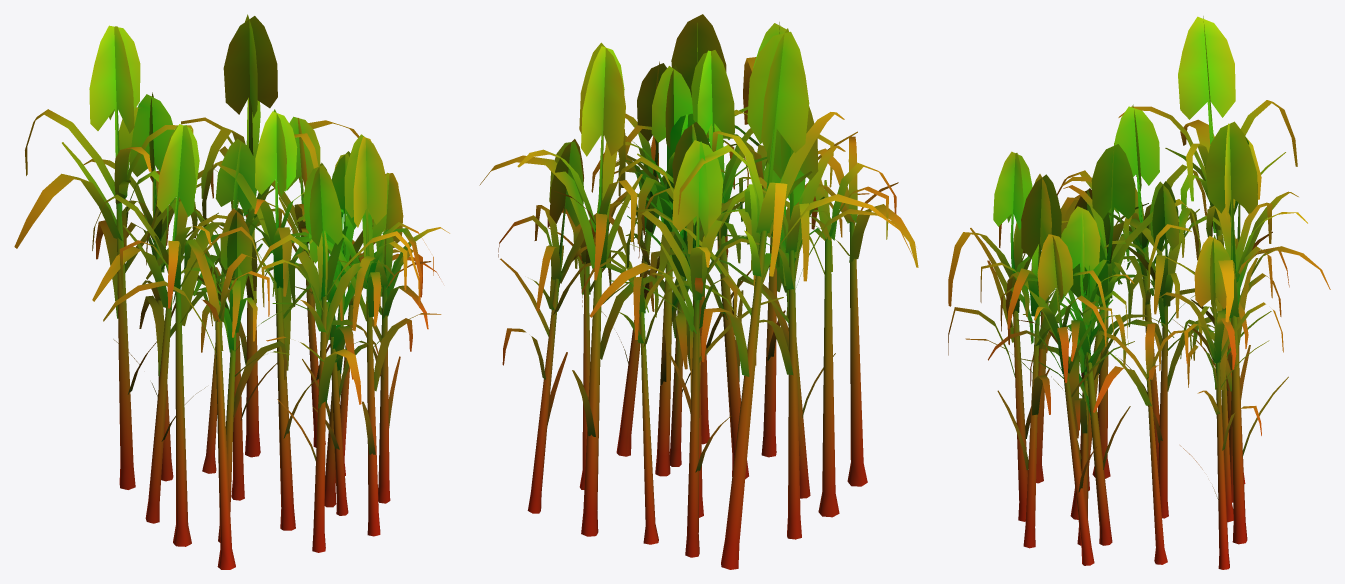
Rendered from SM_SugarCane_4.fbx.
3 renders of one model, left to right at view 1: azimuth 30°, elevation 25°; view 2: azimuth 150°, elevation 25°; view 3: azimuth 270°, elevation 25°, orthographic. The views are drawn at different scales.
Parts seen in each view (by area): view 1: SM_SugarCane_4; view 2: SM_SugarCane_4; view 3: SM_SugarCane_4.
Part boxes in pixels (<box>): SM_SugarCane_4: <box>14,14,449,569</box>; SM_SugarCane_4: <box>479,14,918,569</box>; SM_SugarCane_4: <box>948,16,1330,569</box>.
Size of the model in its own units: 1.87 by 2.26 by 1.73.
